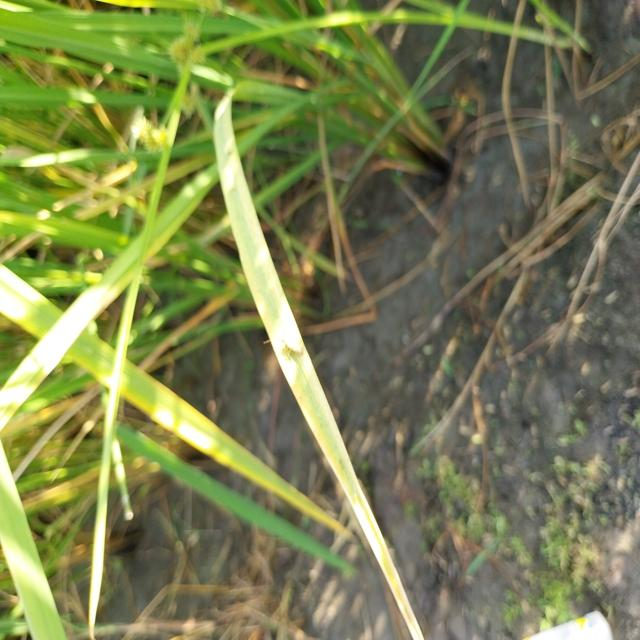healthy: (262, 332, 314, 364)
